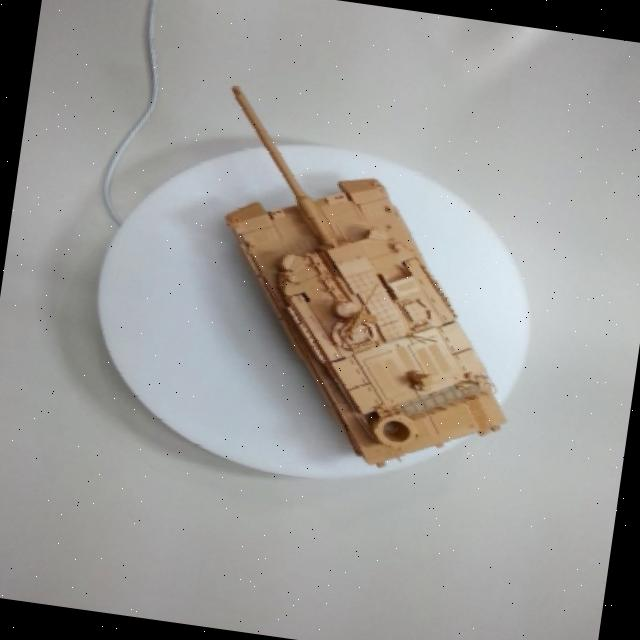korea tank: (176, 69, 548, 532)
